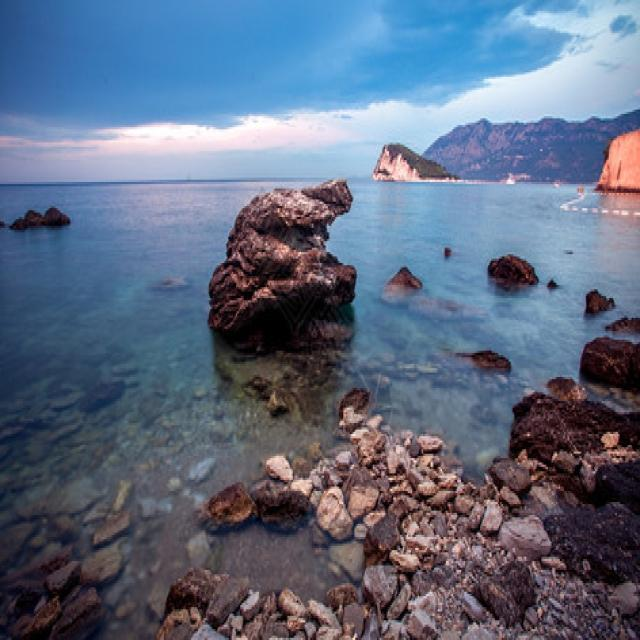island: (380, 78, 640, 199)
reef: (212, 160, 363, 346)
